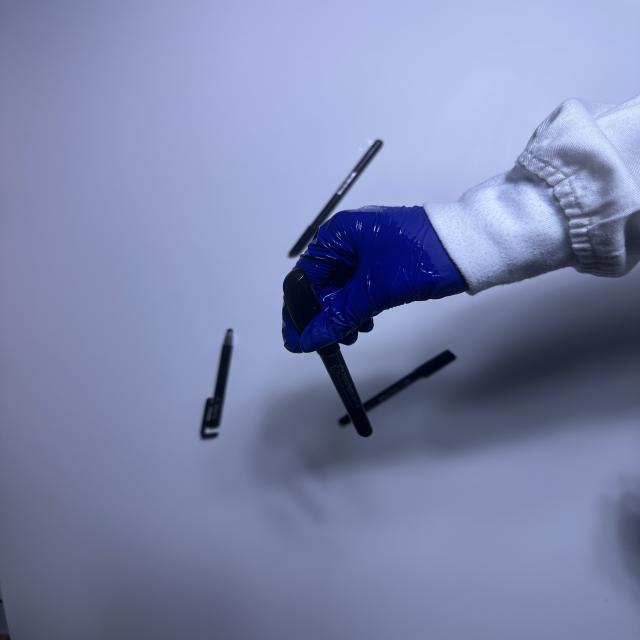gloves_contaminated: (282, 206, 468, 353)
